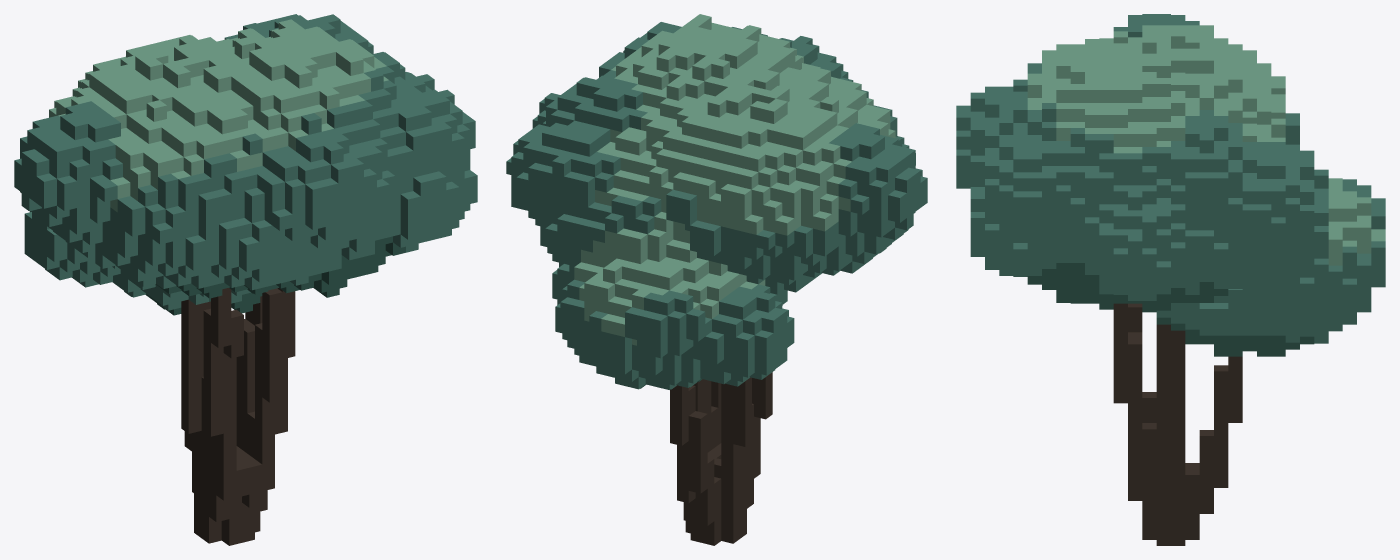
The model's file is dense_bush_v2_species1_near.glb.
3 renders of one model, left to right at view 1: azimuth 30°, elevation 25°; view 2: azimuth 150°, elevation 25°; view 3: azimuth 270°, elevation 25°, orthographic. The views are drawn at different scales.
Parts seen in each view (by area): view 1: dense_bush_v2_species1_near; view 2: dense_bush_v2_species1_near; view 3: dense_bush_v2_species1_near.
Boxes of the visible parts, x1,y1,x2,y2 form: dense_bush_v2_species1_near: (14,14,477,545); dense_bush_v2_species1_near: (506,14,927,545); dense_bush_v2_species1_near: (956,14,1385,545).
Bounding box in the file's own units: 2 × 2.31 × 1.88.
Materials: 1 (1 with a texture image).
